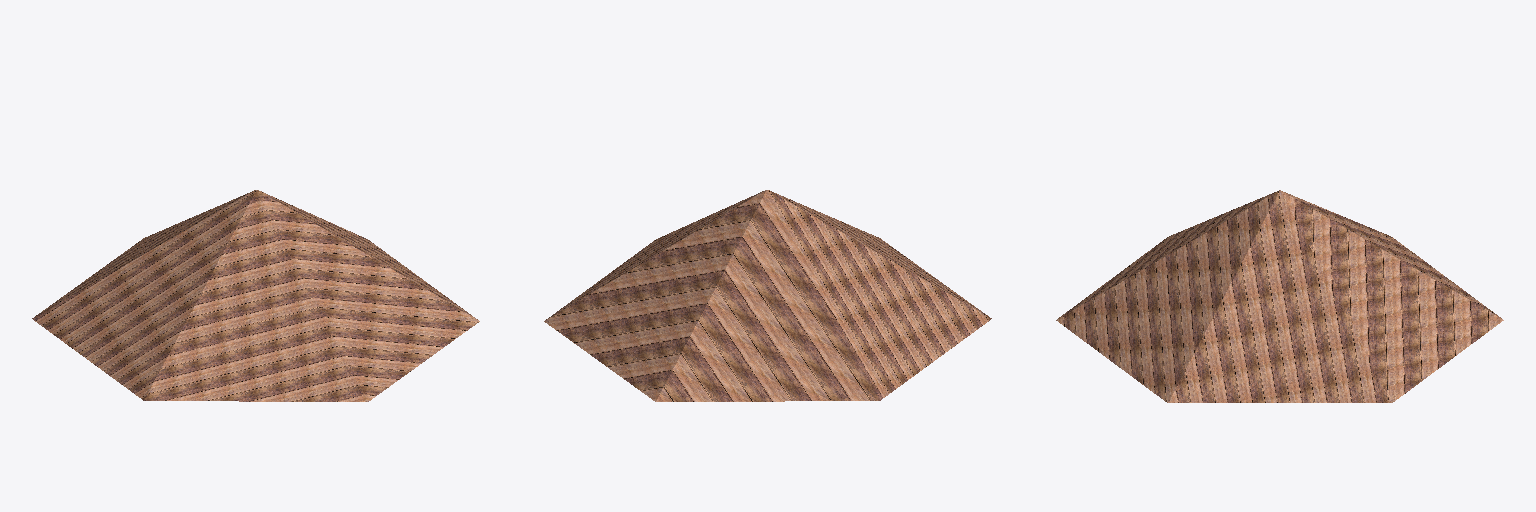
3 renders of one model, left to right at view 1: azimuth 30°, elevation 25°; view 2: azimuth 150°, elevation 25°; view 3: azimuth 270°, elevation 25°, orthographic.
Parts seen in each view (by area): view 1: Cone_Cone.001; view 2: Cone_Cone.001; view 3: Cone_Cone.001.
Boxes of the visible parts, <box> form: Cone_Cone.001: <box>32,190,479,401</box>; Cone_Cone.001: <box>544,190,991,401</box>; Cone_Cone.001: <box>1056,190,1503,402</box>.
Size of the model in its own units: 1.78 by 0.6726 by 2.06.
1 materials, 1 textured.